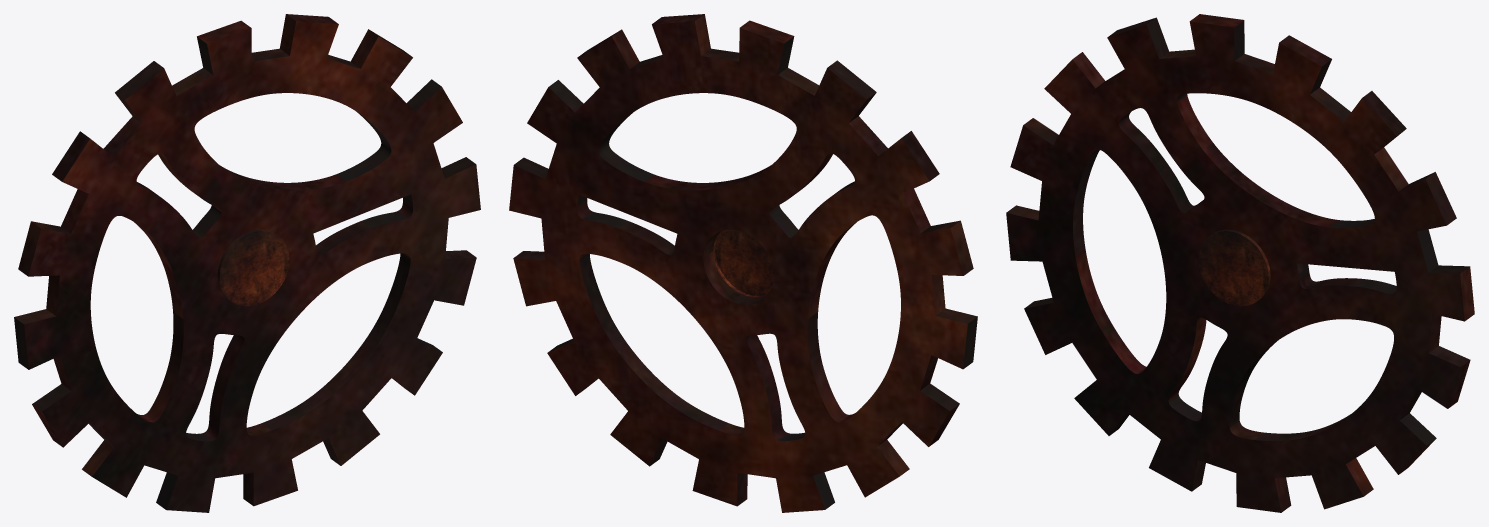
File: Gear3.obj
3 views of the same model, side by side, from view 1: azimuth 30°, elevation 25°; view 2: azimuth 150°, elevation 25°; view 3: azimuth 330°, elevation 25° (orthographic).
Parts seen in each view (by area): view 1: gear3.1_RustOscuro; view 2: gear3.1_RustOscuro; view 3: gear3.1_RustOscuro.
Part boxes in pixels (left/top/right/bottom): gear3.1_RustOscuro: left=14, top=14, right=480, bottom=512; gear3.1_RustOscuro: left=509, top=14, right=977, bottom=512; gear3.1_RustOscuro: left=1006, top=14, right=1474, bottom=512.
Size of the model in its own units: 2.2 by 2.2 by 0.1056.
